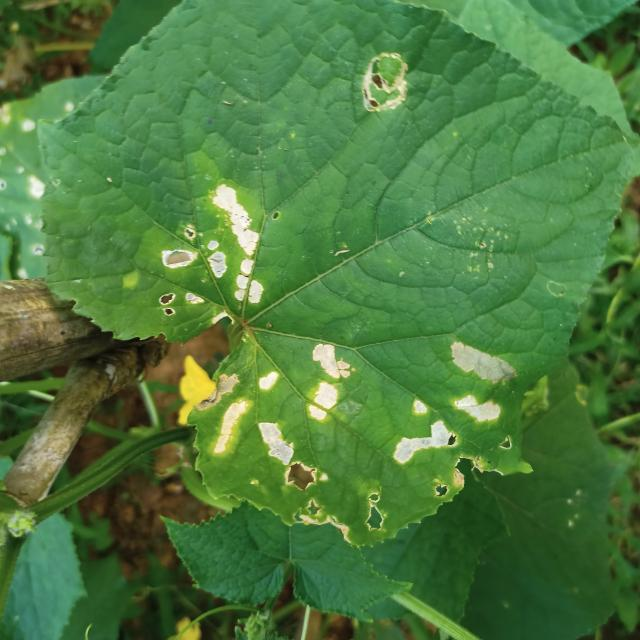disease_cucumber: (156, 180, 275, 332), (196, 350, 302, 490), (451, 336, 529, 425), (304, 339, 364, 427), (385, 397, 452, 467)
